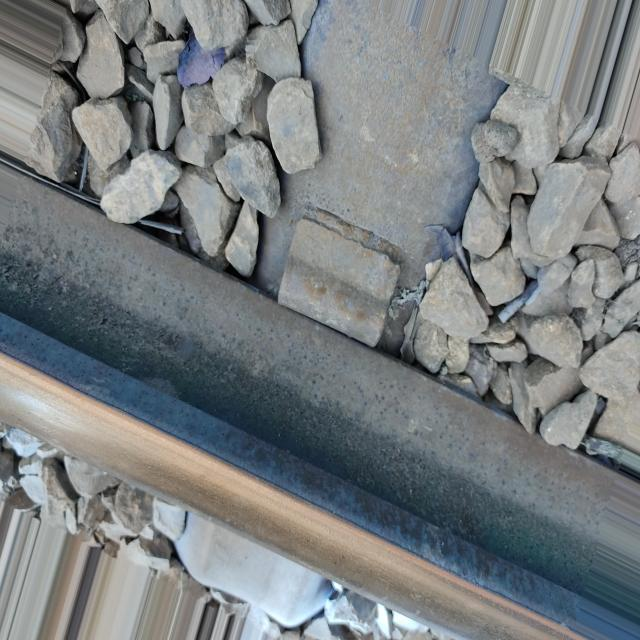Missing Fastener: (263, 211, 402, 375)
